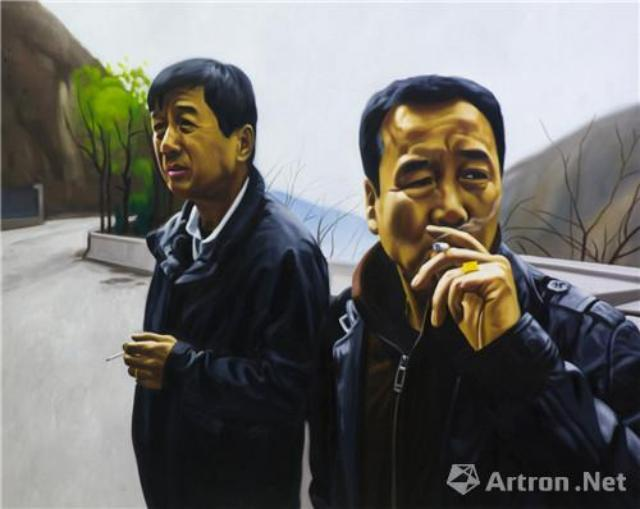SafeDriving: (453, 154, 497, 190), (398, 163, 440, 200)
Smoking: (102, 346, 126, 366), (429, 237, 453, 257)
